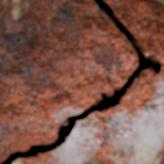brick: (13, 0, 163, 163), (0, 0, 136, 161)
crack: (0, 0, 162, 163)
